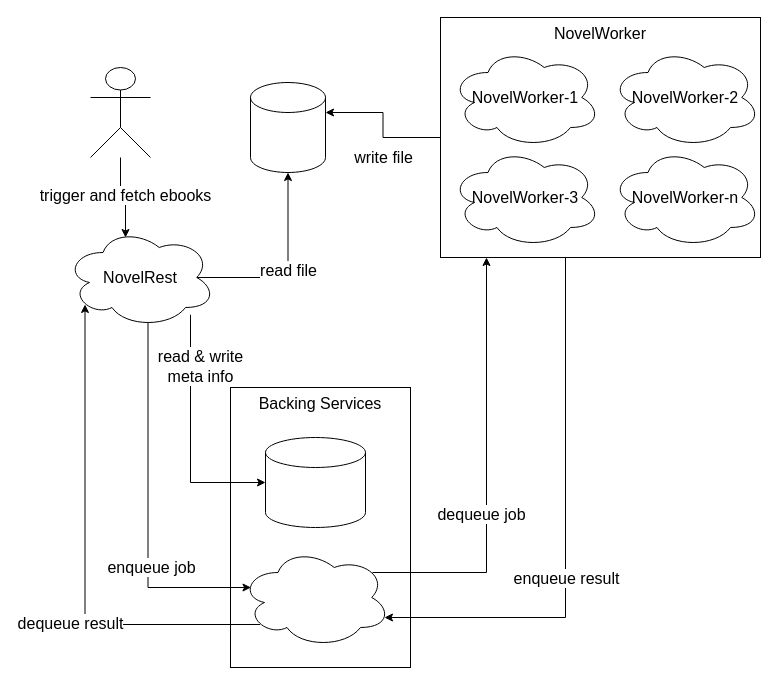
The diagram is 778 pixels wide and 685 high, and some of its shapes have lost their labels. The shapes that lost their labels are listed below. From the top down, each one's centre as x and y in pixels, then its label:
At point (288, 127): "volume mount".
At point (315, 482): "Postgresql with volume".
At point (315, 597): "ActiveMQ".
